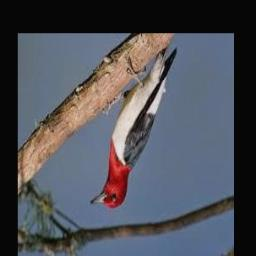Woodpecker: (90, 40, 177, 209)
